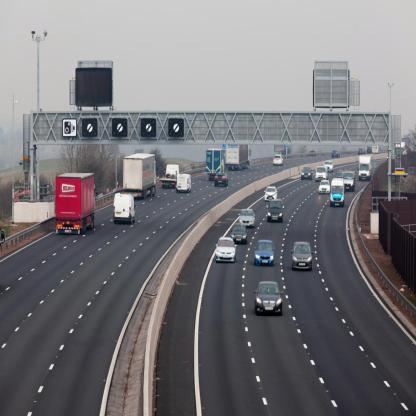car: (258, 281, 284, 318), (112, 192, 136, 224), (293, 241, 313, 271), (256, 238, 275, 267), (217, 237, 236, 265), (332, 179, 344, 207), (232, 224, 248, 244), (269, 201, 284, 221), (214, 173, 228, 190), (242, 211, 256, 228), (344, 174, 356, 193), (265, 187, 279, 203), (179, 176, 192, 193), (319, 179, 332, 196), (273, 153, 283, 167), (303, 168, 312, 182), (317, 168, 327, 179), (326, 162, 334, 171)
container: (121, 154, 158, 198), (226, 144, 253, 169)
truck: (56, 174, 96, 237), (207, 151, 228, 175), (160, 163, 178, 186), (359, 155, 374, 181)
